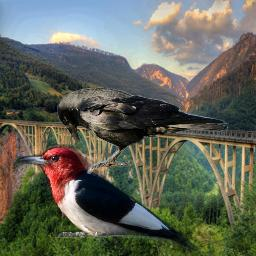Crow: (57, 87, 229, 174)
Woodpecker: (14, 144, 201, 256)
